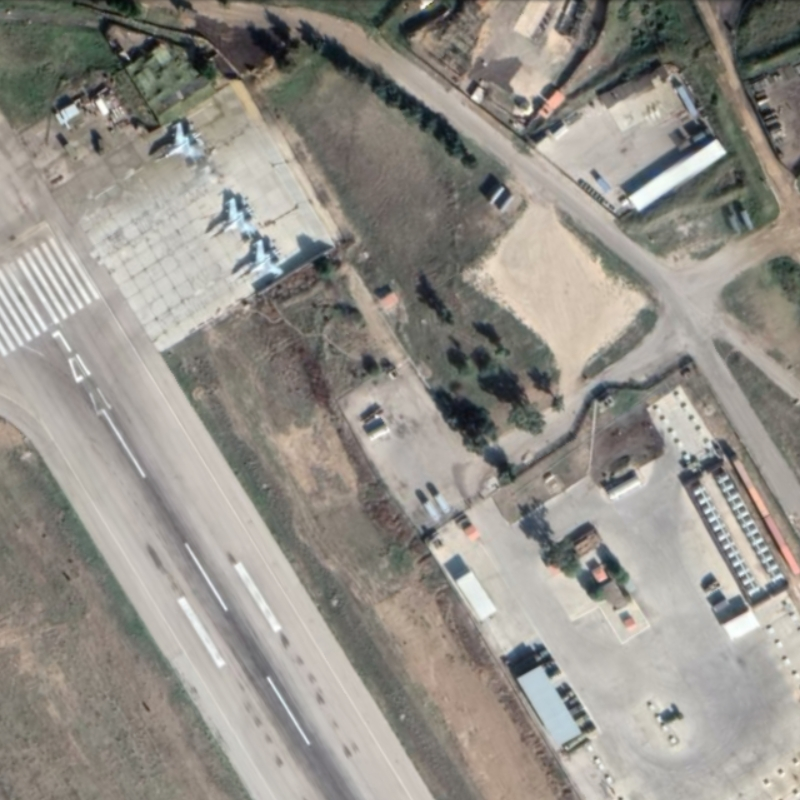A1: (150, 119, 207, 163), (208, 194, 259, 241), (233, 237, 287, 281)
